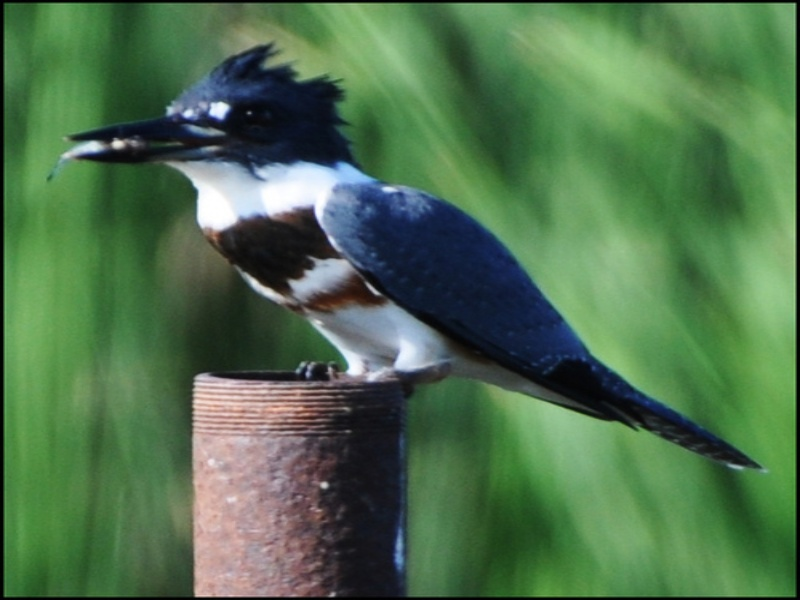kingfisher: (61, 37, 776, 486)
